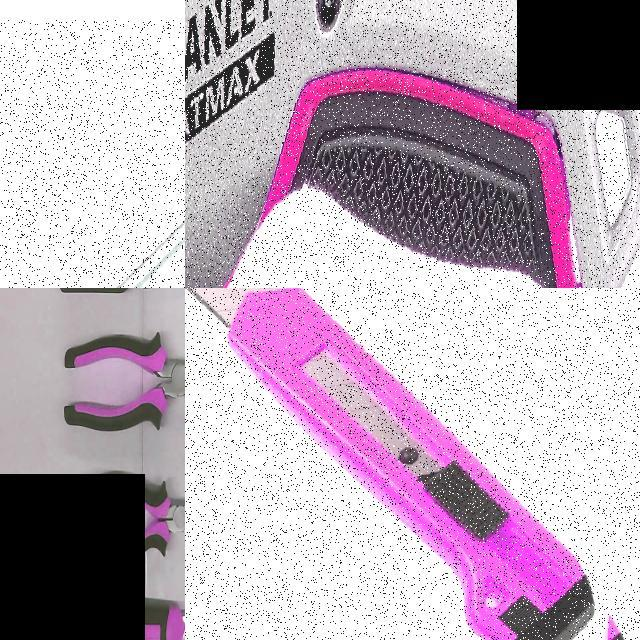estilete: (195, 287, 593, 639)
